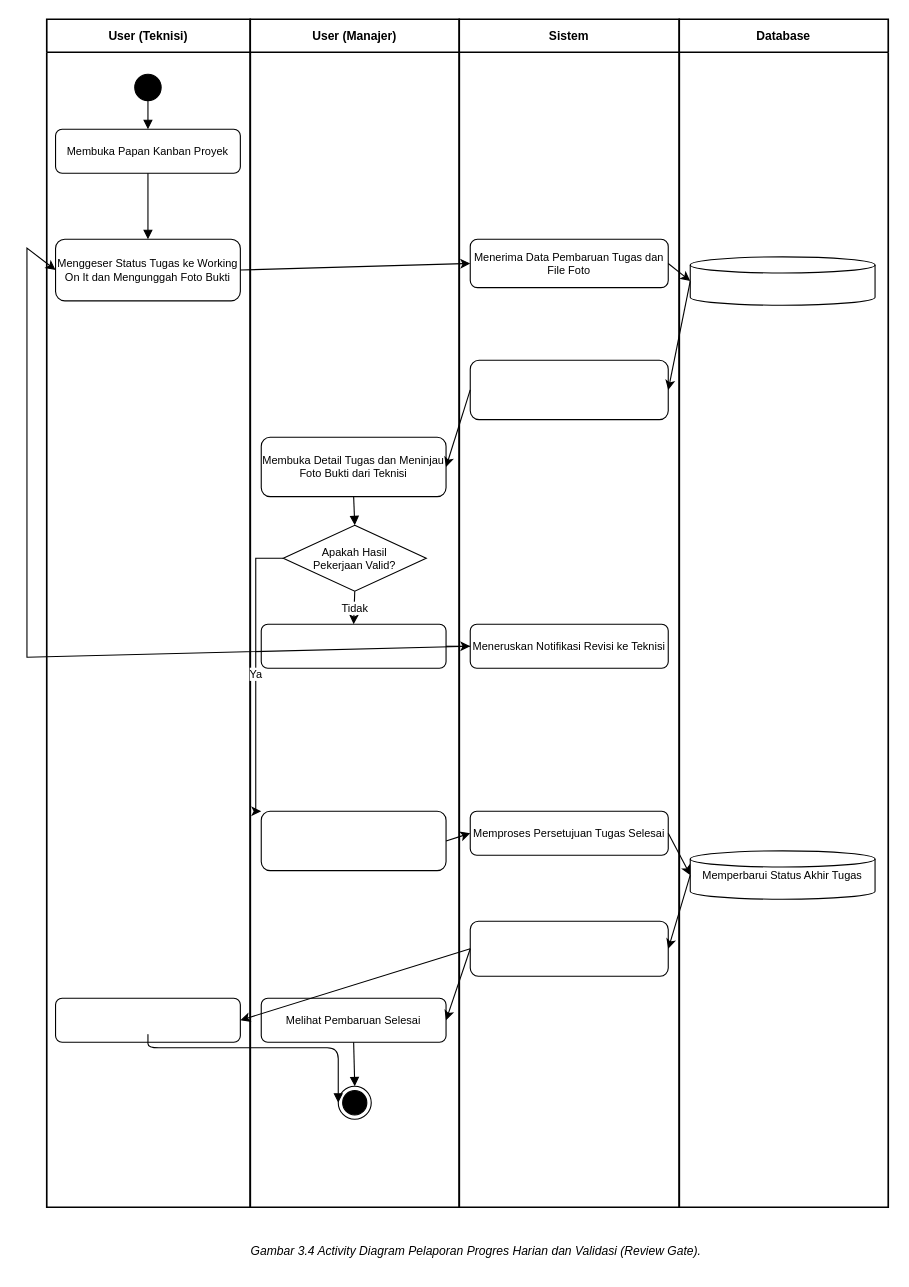
The diagram is 909 pixels wide and 1287 high, and some of its shapes have lost their labels. The centre of each missing label's shape, as x and y in pixels:
"Melihat Tugas Selesai di Kanban" belongs at point (147, 1019).
"Memunculkan Notifikasi Perlu Direview di Dashboard Manajer" belongs at point (568, 389).
"Menampilkan Pesan Tugas Berhasil Diselesaikan ke Kedua Aktor" belongs at point (568, 948).
"Mengirim Catatan Revisi" belongs at point (353, 645).
"Menyetujui dan Menggeser Status Tugas menjadi Done" belongs at point (353, 840).
"Menyimpan Data Progres Sementara" belongs at point (782, 280).
